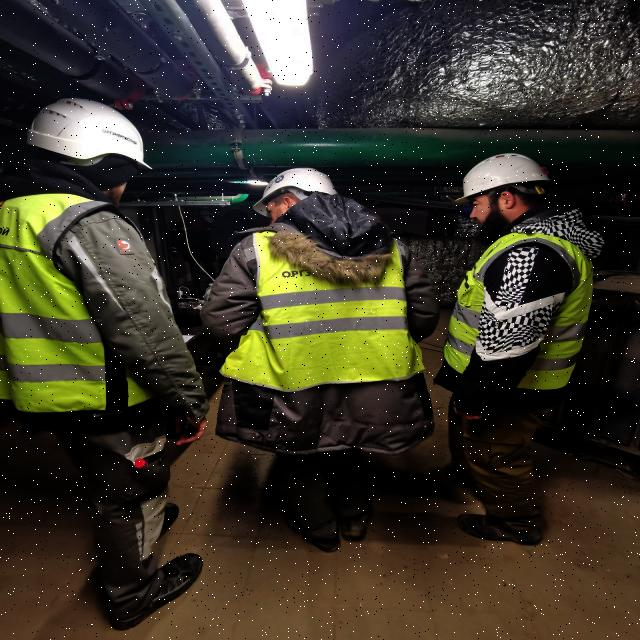Helmet: (25, 100, 155, 214), (450, 152, 556, 241), (257, 167, 349, 233)
